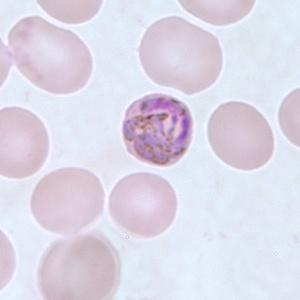Infected: (123, 93, 193, 166)
Uninfected: (138, 17, 224, 96), (8, 16, 91, 94), (37, 237, 121, 300), (30, 167, 104, 233), (207, 101, 275, 171), (107, 172, 178, 235), (0, 107, 49, 180)
